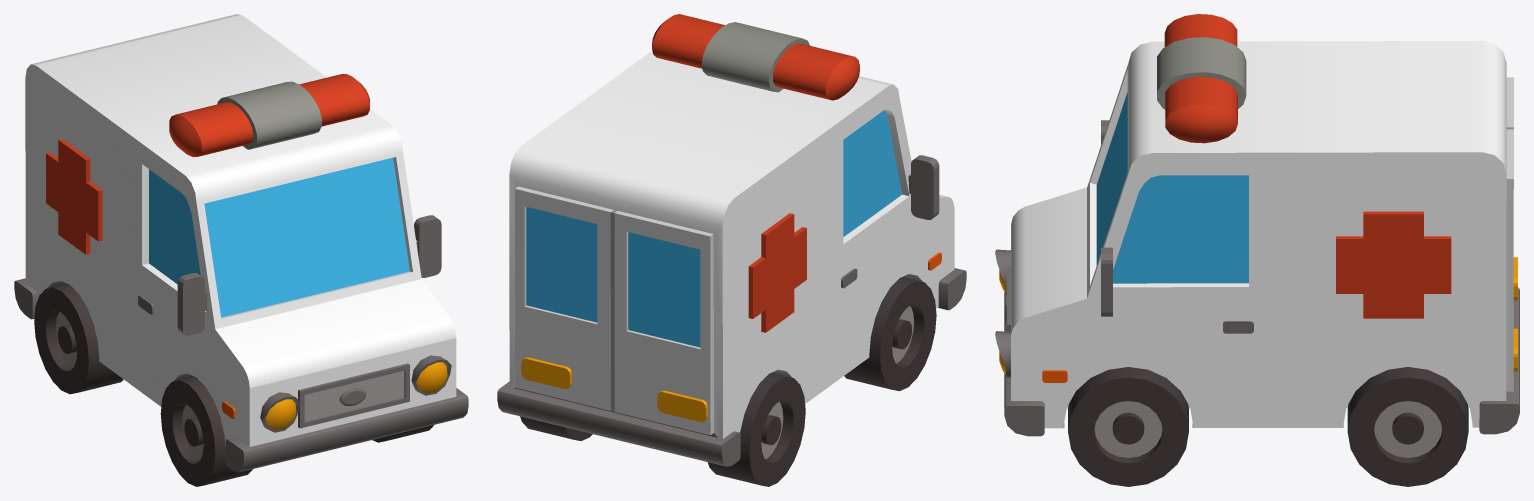
Rendered from Ambulance_fbx.glb.
The picture shows the model from 3 angles, left to right: view 1: azimuth 30°, elevation 25°; view 2: azimuth 150°, elevation 25°; view 3: azimuth 270°, elevation 25°; orthographic projection. The views are drawn at different scales.
Visible parts, largest first — view 1: Mesh-Ambulance.2; view 2: Mesh-Ambulance.2; view 3: Mesh-Ambulance.2.
Part boxes in pixels (<box>): Mesh-Ambulance.2: <box>14,14,468,486</box>; Mesh-Ambulance.2: <box>497,14,966,486</box>; Mesh-Ambulance.2: <box>995,14,1519,486</box>.
Size of the model in its own units: 0.8007 by 0.9981 by 1.27.
1 material, 1 textured.
